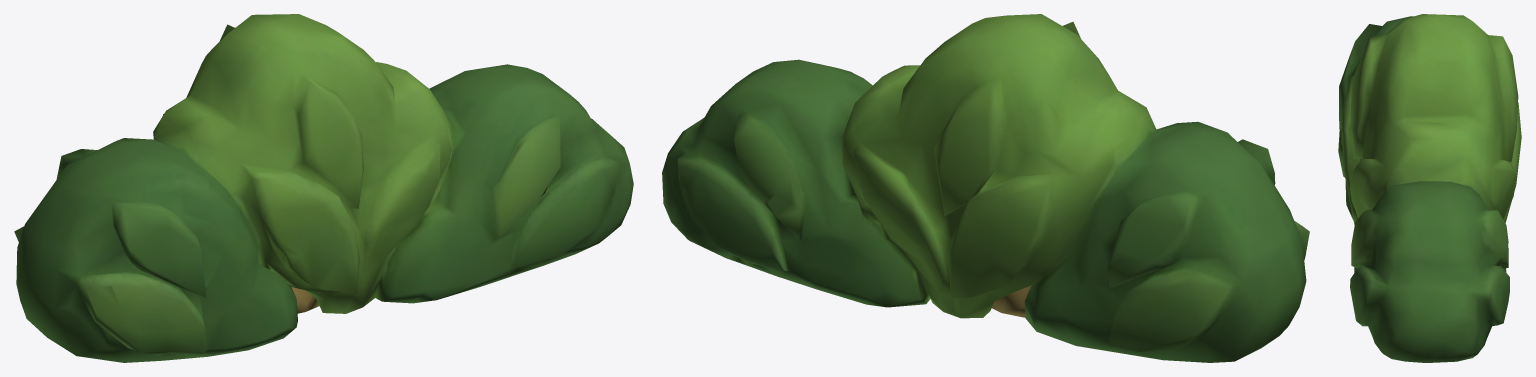
Rendered from bush.glb.
3 views of the same model, side by side, from view 1: azimuth 30°, elevation 25°; view 2: azimuth 150°, elevation 25°; view 3: azimuth 270°, elevation 25° (orthographic). The views are drawn at different scales.
Visible parts, largest first — view 1: tripo_node_156801bc-41d3-4054-98b6-6e0de3e11dd0; view 2: tripo_node_156801bc-41d3-4054-98b6-6e0de3e11dd0; view 3: tripo_node_156801bc-41d3-4054-98b6-6e0de3e11dd0.
Boxes of the visible parts, left/top/right/bottom form: tripo_node_156801bc-41d3-4054-98b6-6e0de3e11dd0: left=14, top=14, right=633, bottom=362; tripo_node_156801bc-41d3-4054-98b6-6e0de3e11dd0: left=662, top=14, right=1309, bottom=362; tripo_node_156801bc-41d3-4054-98b6-6e0de3e11dd0: left=1338, top=14, right=1521, bottom=362.
Bounding box in the file's own units: 1 × 0.4278 × 0.3238.
Materials: 1 (1 with a texture image).
